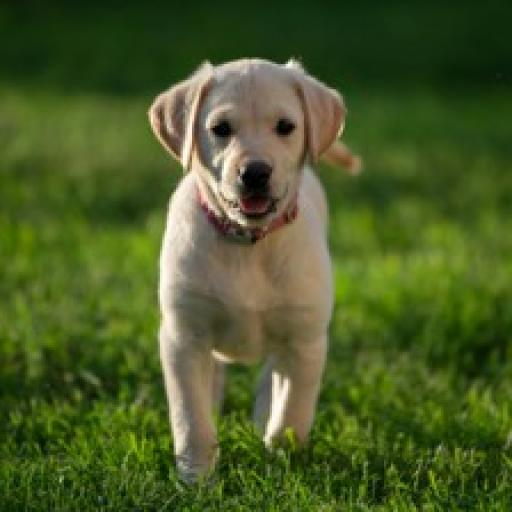dog: (143, 48, 363, 492)
